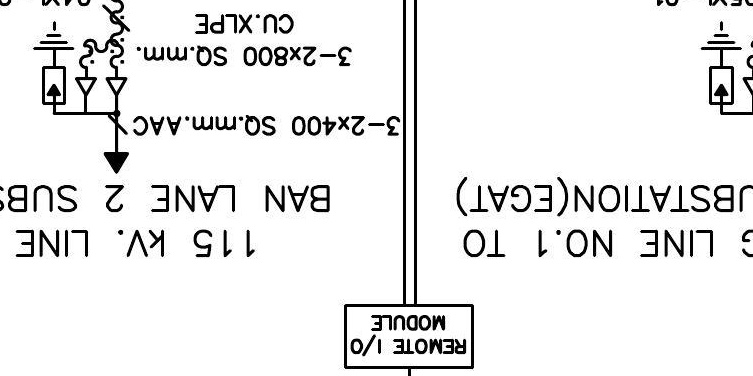115_la: (700, 20, 743, 106), (32, 20, 75, 106)
remote_io_module: (344, 303, 475, 369)
terminator_double: (74, 76, 129, 116)
